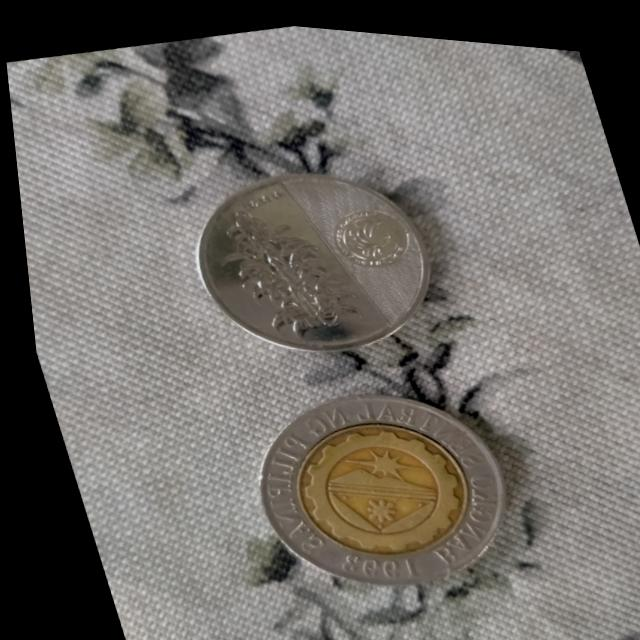10_Old_Back: (214, 348, 526, 615)
5_New_Back: (194, 183, 362, 352)
